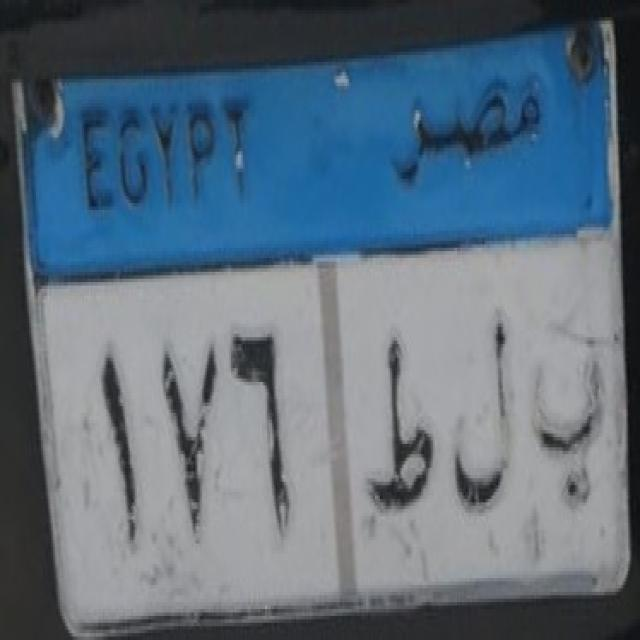1: (98, 338, 144, 550)
6: (227, 318, 295, 538)
7: (156, 322, 222, 545)
Laam: (448, 304, 514, 524)
Taa: (364, 340, 436, 520)
baa: (528, 342, 610, 512)
